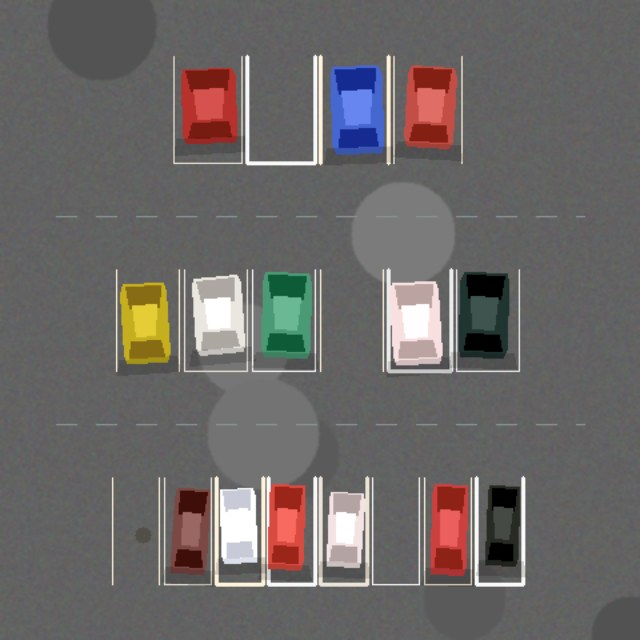space-empty: (247, 56, 315, 163), (320, 269, 383, 371), (112, 477, 159, 584), (372, 477, 419, 584)
space-occupied: (173, 56, 241, 163), (320, 56, 388, 163), (393, 56, 461, 163), (116, 269, 179, 371), (184, 269, 247, 371), (252, 269, 315, 371), (388, 269, 451, 371), (456, 269, 519, 371), (164, 477, 211, 584), (216, 477, 263, 584), (268, 477, 315, 584), (320, 477, 367, 584), (424, 477, 471, 584), (476, 477, 523, 584)
